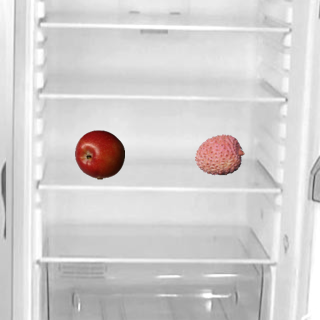Apple Braeburn: (74, 129, 124, 179)
Lychee: (194, 129, 244, 179)
